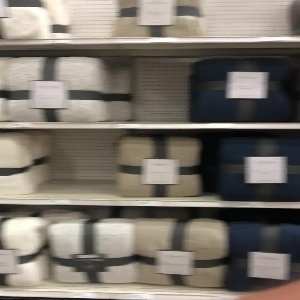void: (35, 128, 115, 199), (130, 43, 191, 122), (204, 1, 292, 39), (68, 1, 113, 41)
